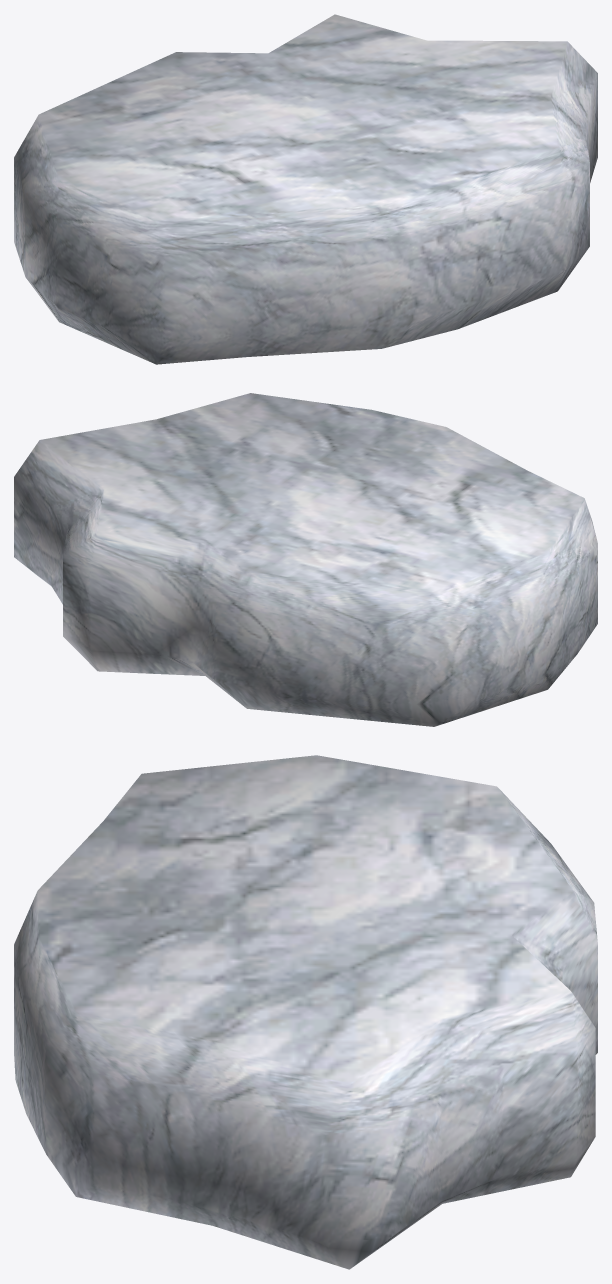
Rendered from iceberg_a.dae.
3 views of the same model, one above another, from view 1: azimuth 30°, elevation 25°; view 2: azimuth 150°, elevation 25°; view 3: azimuth 270°, elevation 25° (orthographic). The views are drawn at different scales.
Parts seen in each view (by area): view 1: tree_oak_a; view 2: tree_oak_a; view 3: tree_oak_a.
Part boxes in pixels (bbox=[...]): tree_oak_a: bbox=[14, 14, 597, 364]; tree_oak_a: bbox=[14, 393, 597, 726]; tree_oak_a: bbox=[14, 755, 597, 1269].
Bounding box in the file's own units: 17.62 × 12.38 × 4.36.
